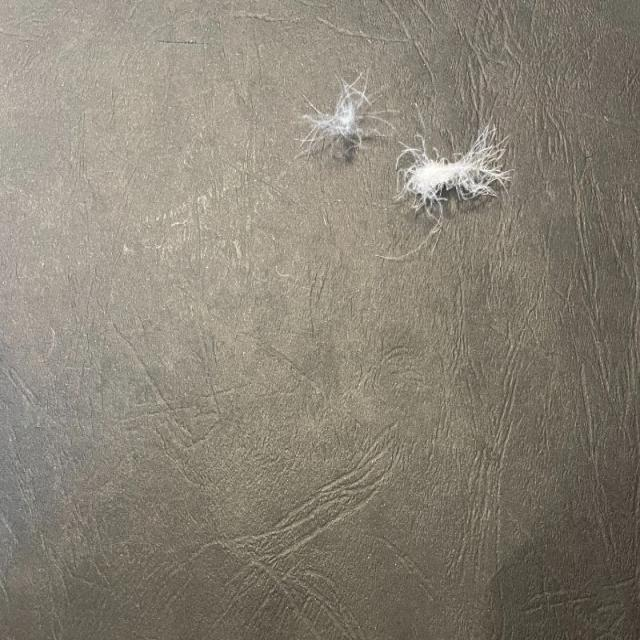feather: (392, 132, 511, 216), (301, 76, 386, 152)
